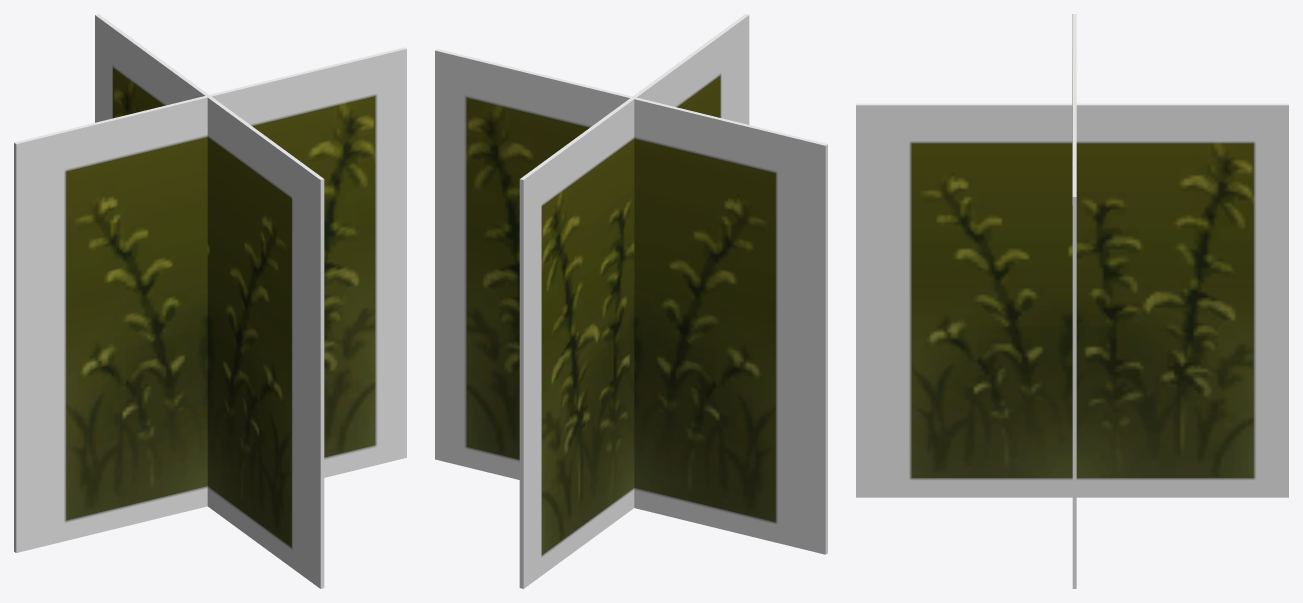
File: Grass2.fbx
The picture shows the model from 3 angles, left to right: view 1: azimuth 30°, elevation 25°; view 2: azimuth 150°, elevation 25°; view 3: azimuth 270°, elevation 25°; orthographic projection. The views are drawn at different scales.
Parts seen in each view (by area): view 1: n_grass_diff_0_56; view 2: n_grass_diff_0_56; view 3: n_grass_diff_0_56.
Boxes of the visible parts, x1=… form: n_grass_diff_0_56: x1=14, y1=14, x2=406, y2=588; n_grass_diff_0_56: x1=435, y1=14, x2=827, y2=588; n_grass_diff_0_56: x1=856, y1=14, x2=1288, y2=588.
Bounding box in the file's own units: 100 × 100 × 100.
